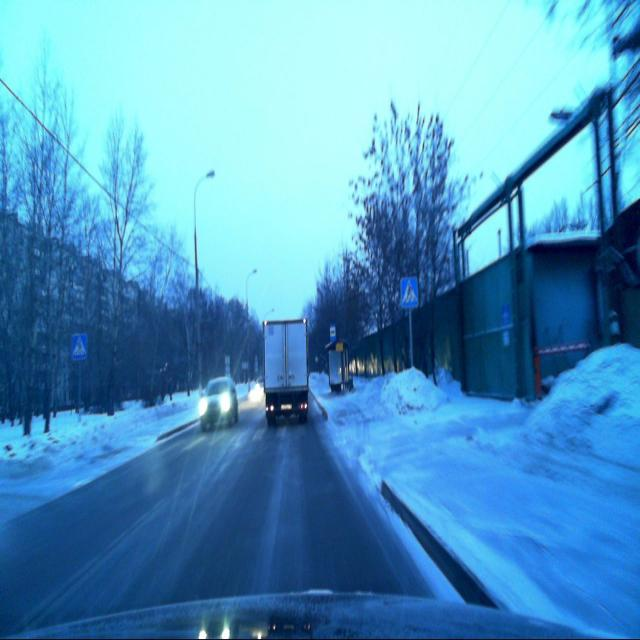object: (410, 312, 414, 369)
road sign: (400, 276, 418, 308), (72, 332, 88, 361)
